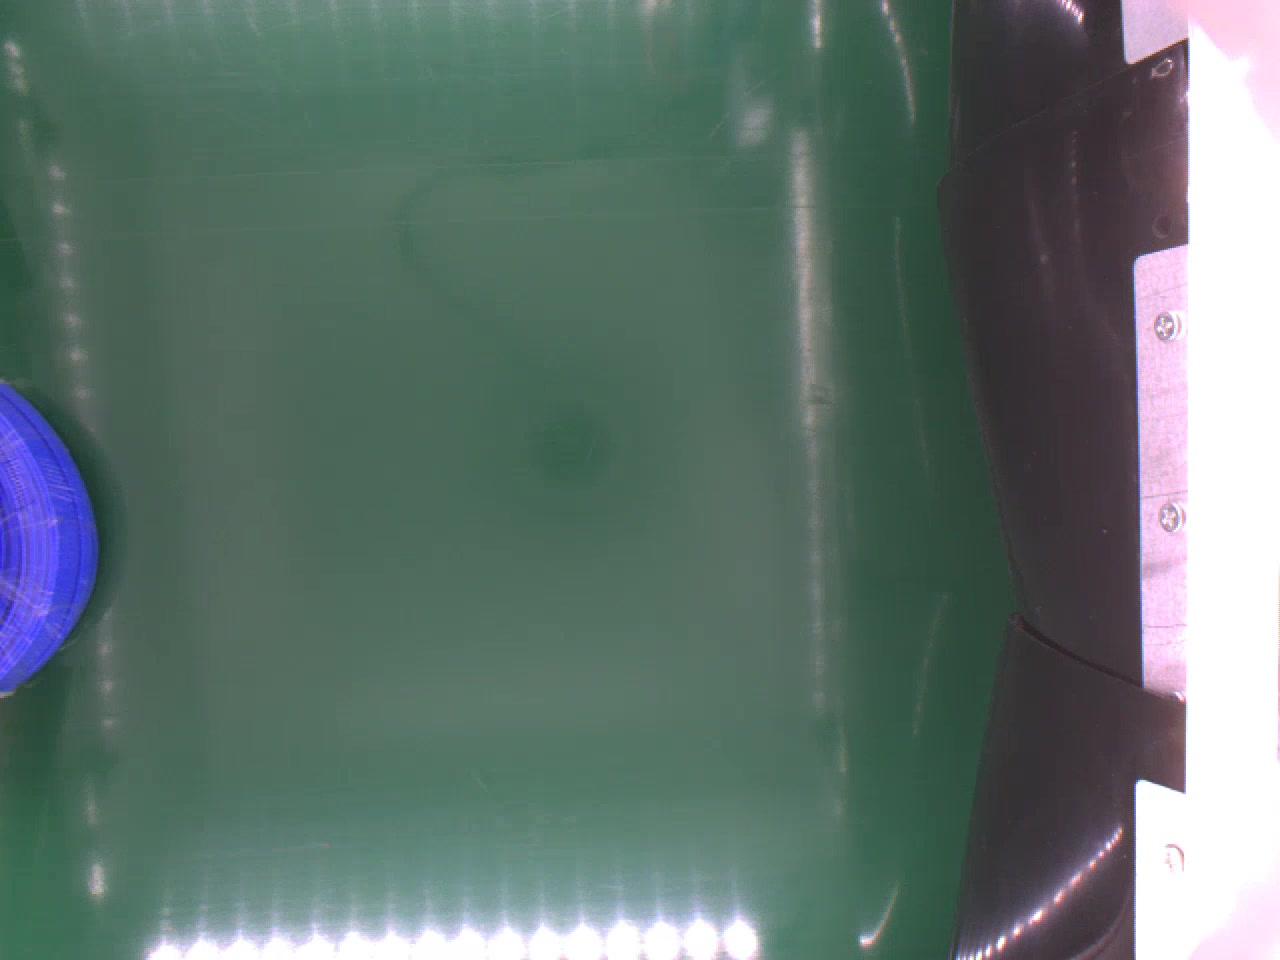blue: (0, 381, 100, 696)
